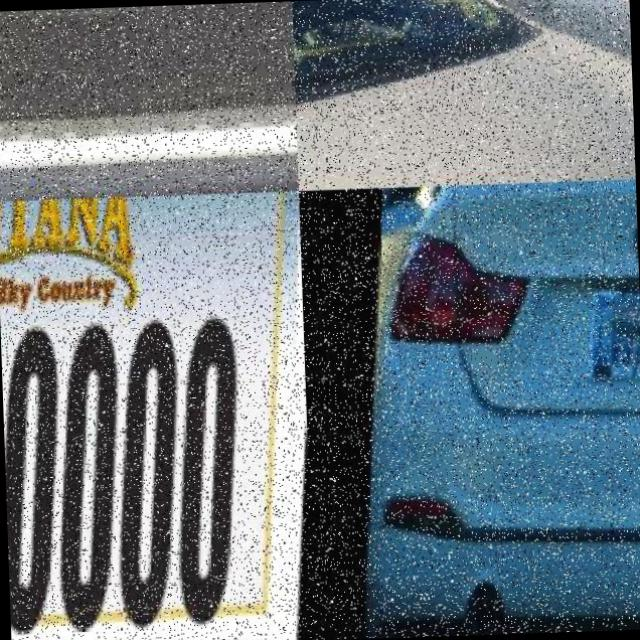LicensePlate: (0, 193, 311, 640), (579, 279, 640, 405)
